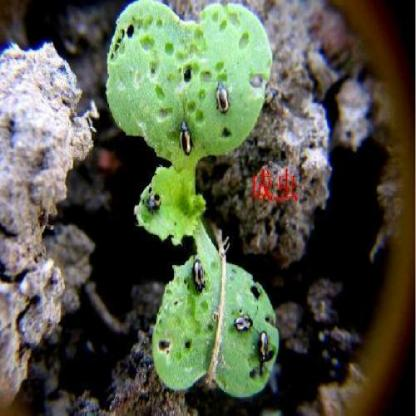beetle: (233, 304, 255, 339), (176, 118, 194, 158), (211, 80, 231, 114), (255, 327, 272, 367), (190, 255, 206, 295), (145, 193, 162, 213)
